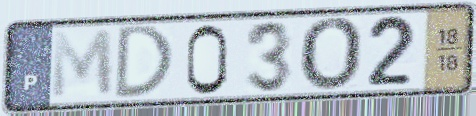0: (184, 22, 231, 97)
2: (364, 11, 422, 93)
3: (243, 18, 296, 95)
D: (111, 23, 177, 103)
M: (49, 27, 116, 103)
O: (297, 15, 366, 94)
